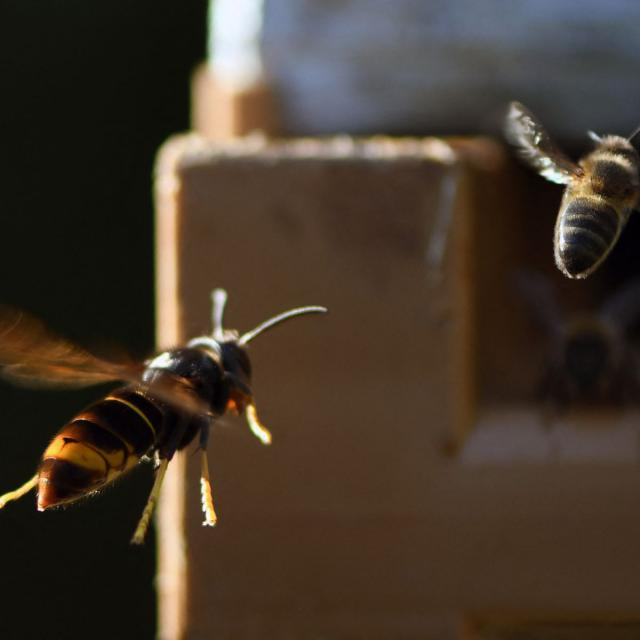Vespa Velutina: (0, 277, 361, 565)
